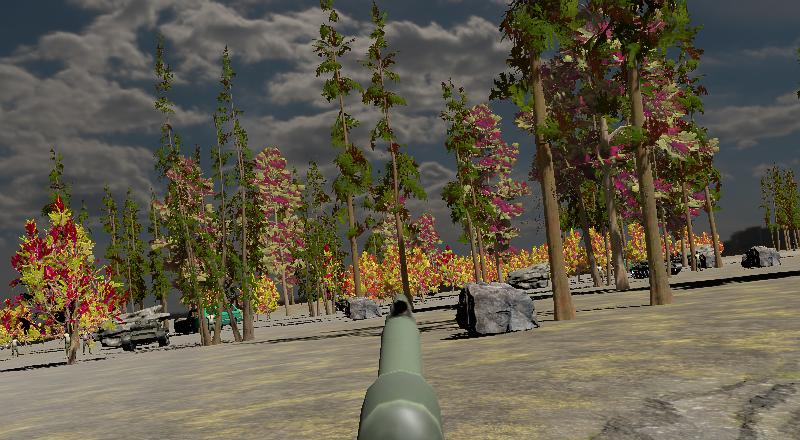Tank: (121, 318, 171, 352), (629, 253, 686, 280)
